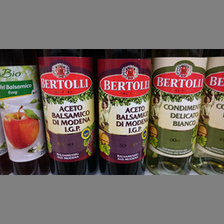vinegar: (148, 48, 207, 176), (37, 51, 97, 176), (98, 48, 151, 175), (1, 51, 51, 176)
